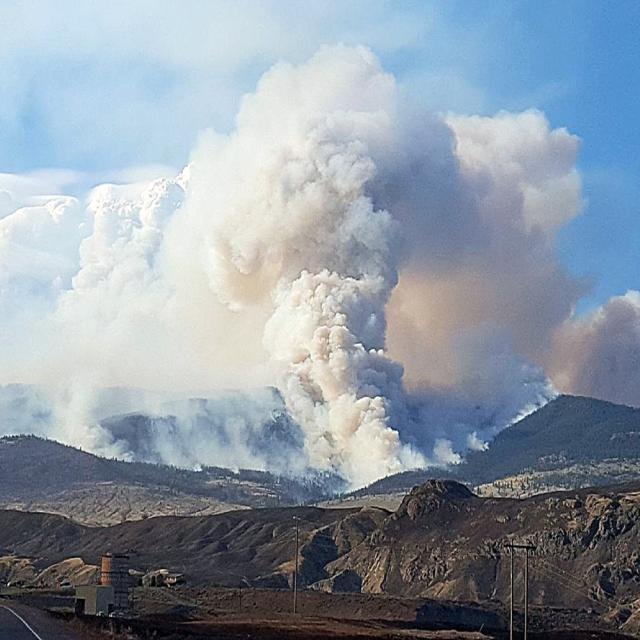Smoke: (236, 82, 451, 503)
